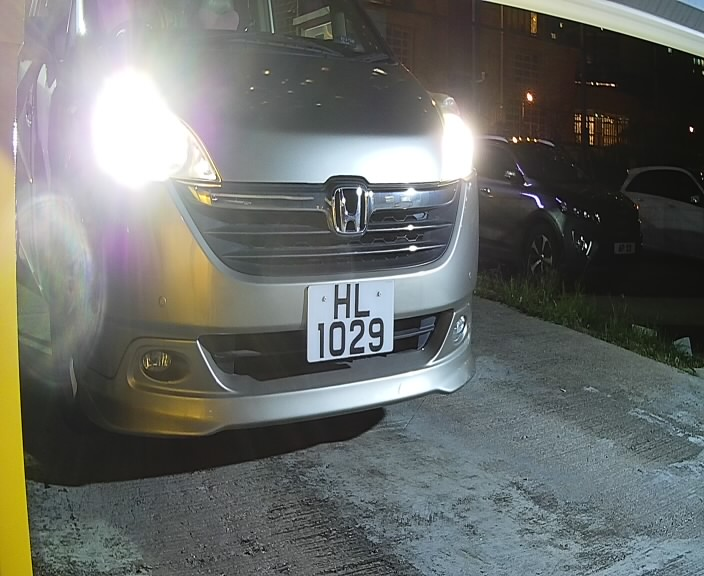Car: (14, 1, 509, 468)
License Plate: (300, 272, 402, 373)
